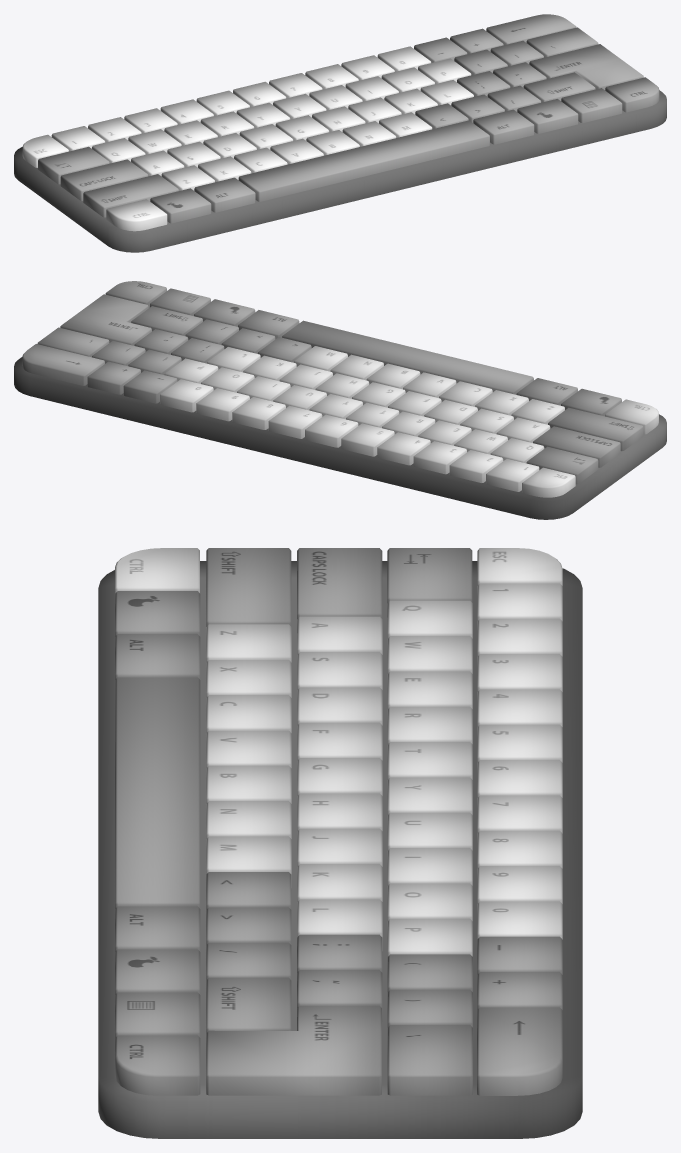
Rendered from IPera_Keyboard (1).fbx.
3 views of the same model, one above another, from view 1: azimuth 30°, elevation 25°; view 2: azimuth 150°, elevation 25°; view 3: azimuth 270°, elevation 25° (orthographic). The views are drawn at different scales.
Visible parts, largest first — view 1: Base2, Base, K, F, S, Z, X, A, D, H, L, N (+26 smaller); view 2: Base2, Base, Alpha0, Alpha2, Alpha4, Alpha6, Alpha7, Alpha3, Alpha9, Alpha8, Alpha5, Alpha1 (+26 smaller); view 3: Base2, Base, P, M, L, Alpha1, Alpha7, D, Z, A, Alpha0, Alpha2 (+26 smaller).
Boxes of the visible parts, <box> form: Base2: <box>22,14,659,231</box>; Base: <box>14,90,666,252</box>; K: <box>384,88,437,114</box>; F: <box>239,124,293,149</box>; S: <box>167,141,220,167</box>; Z: <box>161,165,214,190</box>; X: <box>198,156,251,182</box>; A: <box>131,150,184,176</box>; D: <box>203,133,256,158</box>; H: <box>312,106,365,131</box>; L: <box>420,80,473,105</box>; N: <box>342,121,396,146</box>; Base2: <box>22,281,658,497</box>; Base: <box>14,357,666,519</box>; Alpha0: <box>160,379,213,412</box>; Alpha2: <box>449,450,503,482</box>; Alpha4: <box>377,432,430,465</box>; Alpha6: <box>305,414,358,447</box>; Alpha7: <box>268,405,322,438</box>; Alpha3: <box>413,441,466,474</box>; Alpha9: <box>196,388,249,421</box>; Alpha8: <box>232,397,285,429</box>; Alpha5: <box>341,423,394,456</box>; Alpha1: <box>486,459,539,491</box>; Base2: <box>115,548,562,1095</box>; Base: <box>98,561,582,1138</box>; P: <box>387,918,472,956</box>; M: <box>206,836,291,887</box>; L: <box>297,899,382,950</box>; Alpha1: <box>477,583,562,621</box>; Alpha7: <box>477,795,562,833</box>; D: <box>297,687,382,725</box>; Z: <box>206,624,291,662</box>; A: <box>297,616,382,654</box>; Alpha0: <box>477,901,562,939</box>; Alpha2: <box>477,618,562,656</box>.
Bounding box in the file's own units: 4597 × 227 × 1736.
